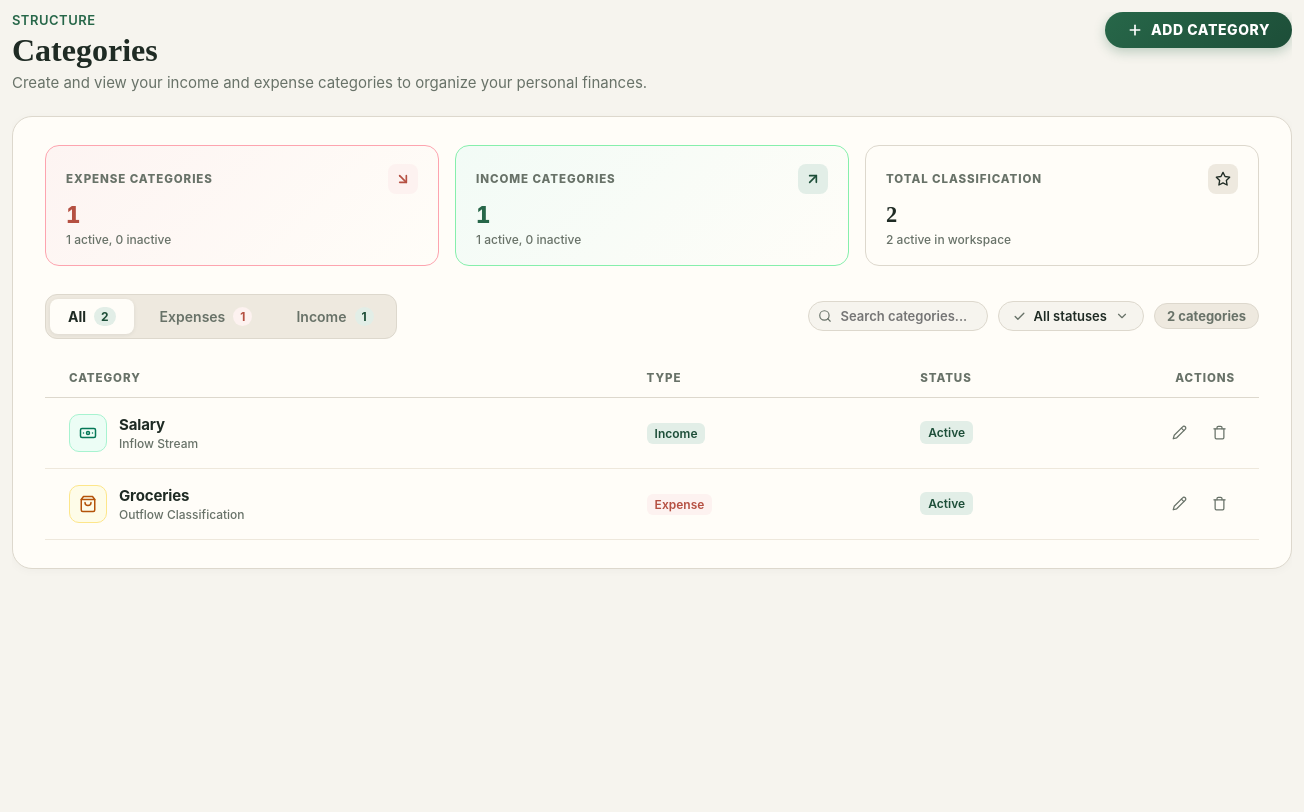
Scenario: CategoriesView › switches sub-tabs and dynamically updates title and action button text
Expected: the heading "Categories" is shown, [12,32,158,68]
Expected: the button with aria-label "Add new category" reads "Add Category", [1105,12,1292,48]
Click Expenses tab
Click the tab "Expenses 1": (206, 316) [142,299,270,334]
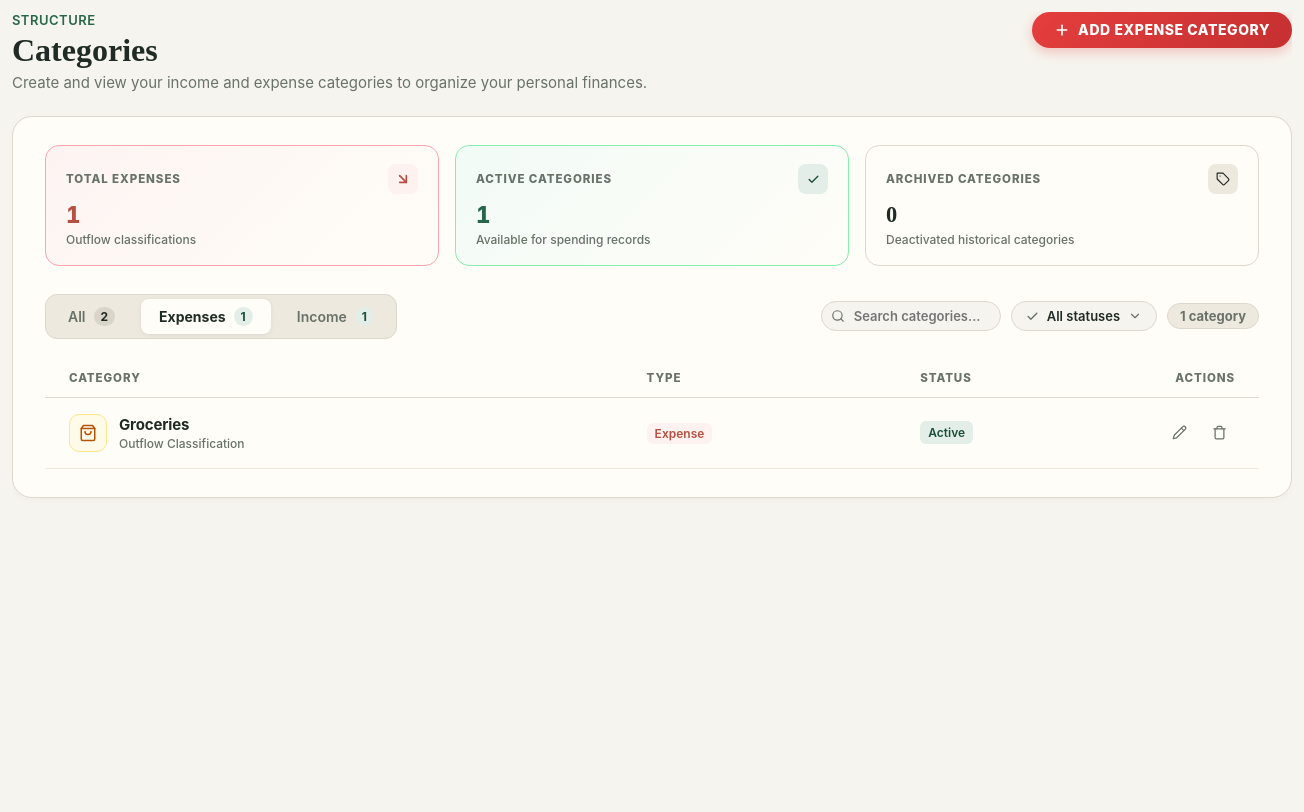
Expected: the text "Groceries" is shown, [119,415,189,434]
Expected: the button with aria-label "Add new category" reads "Add Expense Category", [1032,12,1292,48]
Expected: the text "Salary" is gone
Click Income tab
Click the tab "Income 1": (335, 316) [279,299,392,334]
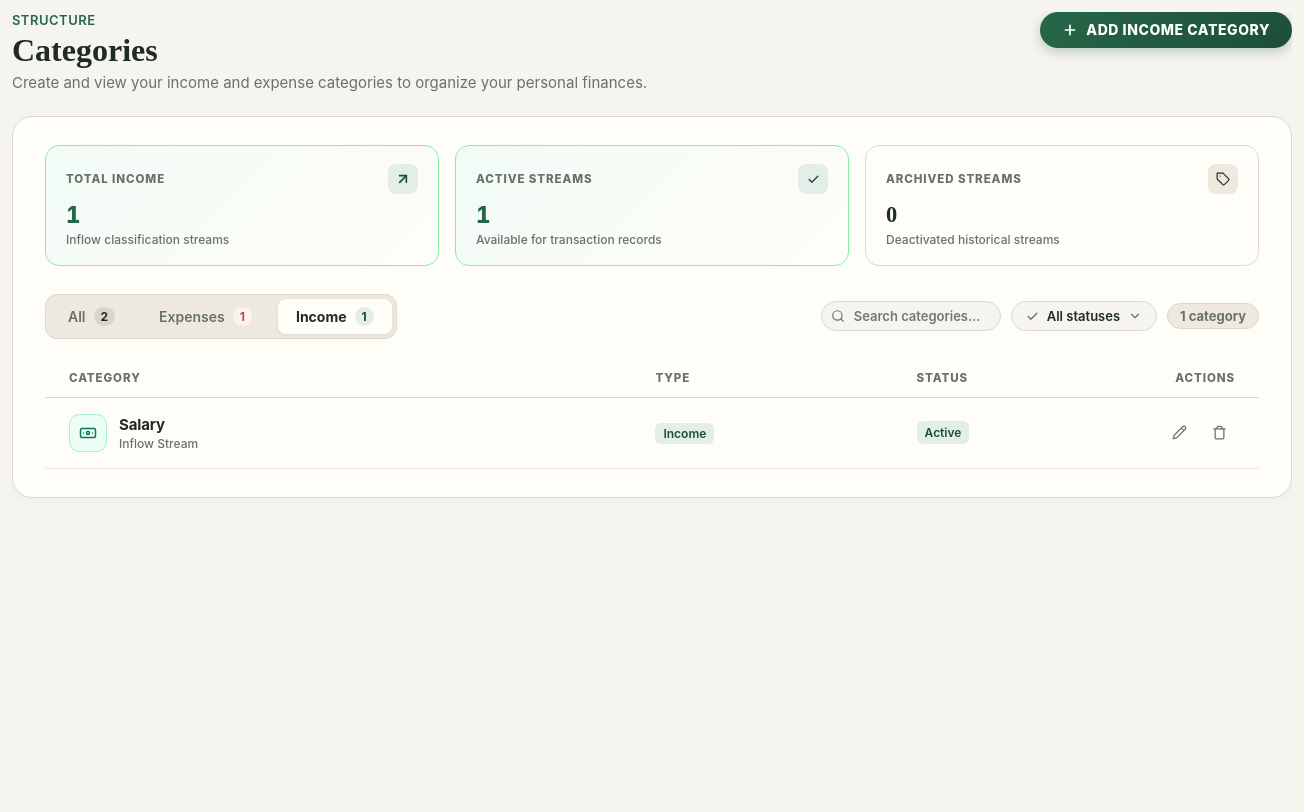
Expected: the button with aria-label "Add new category" reads "Add Income Category", [1040,12,1292,48]
Expected: the text "Salary" is shown, [119,415,165,434]
Expected: the text "Groceries" is gone
